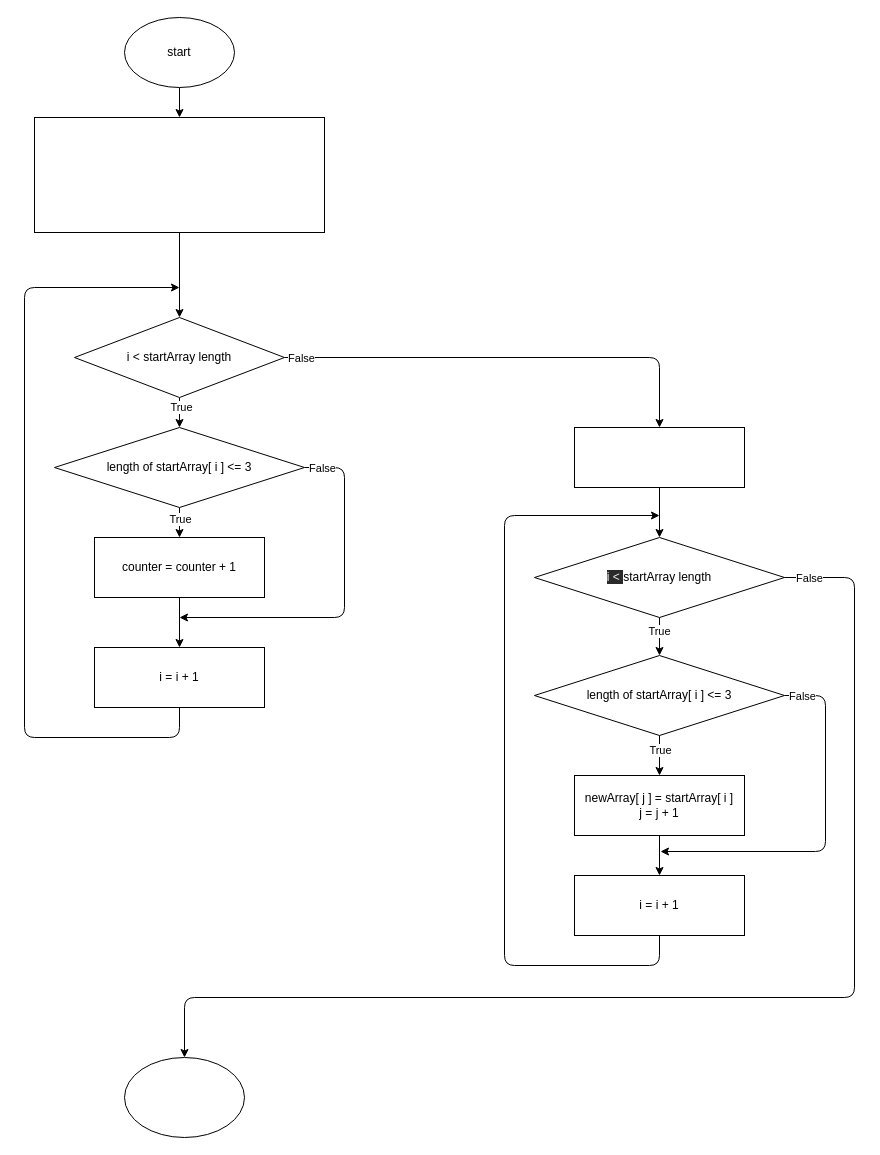
The diagram is 880 pixels wide and 1155 high, and some of its shapes have lost their labels. Each missing label, with the centre of its shape:
End: [184,1097]
newArray = [ counter ] i = 0 j = 0: [659,457]
startArray = [ ] some user words counter = 0 i = 0: [179,174]
